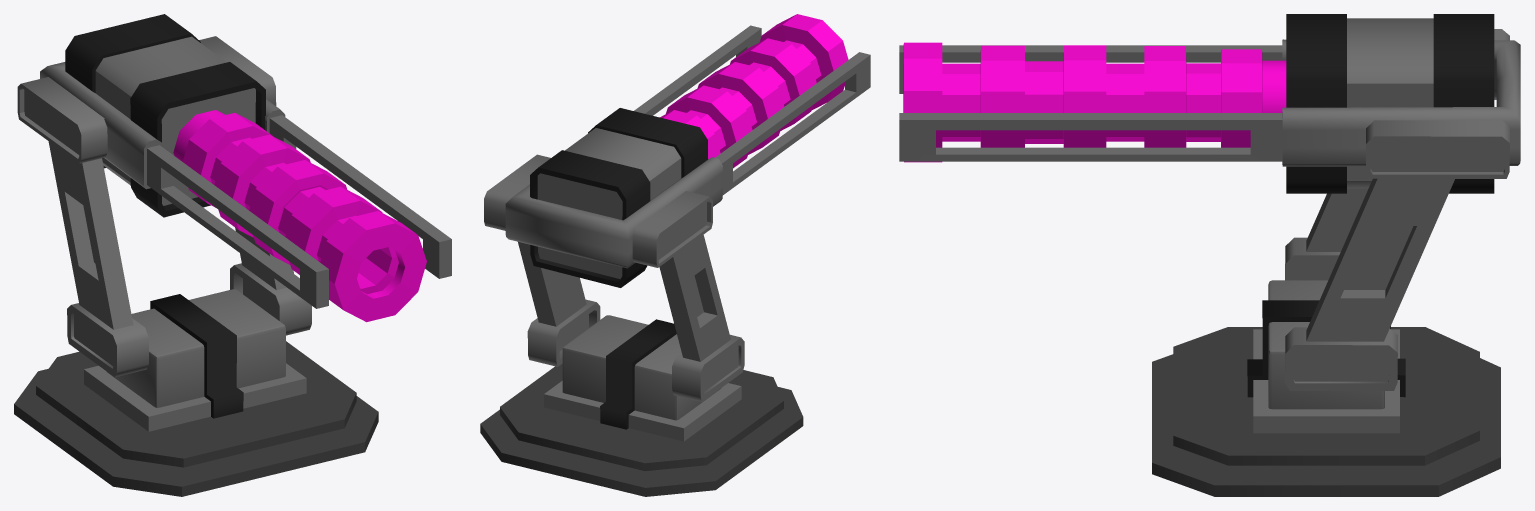
Rendered from Tsniper.fbx.
3 renders of one model, left to right at view 1: azimuth 30°, elevation 25°; view 2: azimuth 150°, elevation 25°; view 3: azimuth 270°, elevation 25°, orthographic. The views are drawn at different scales.
Visible parts, largest first — view 1: Object002, BASE; view 2: Object002, BASE; view 3: Object002, BASE.
Part boxes in pixels (box(x1,y1,x2,y2)): Object002: box(17, 14, 451, 431); BASE: box(14, 341, 378, 496); Object002: box(484, 14, 870, 441); BASE: box(480, 363, 803, 496); Object002: box(899, 14, 1520, 433); BASE: box(1152, 327, 1500, 496).
Size of the model in its own units: 34.17 by 41.75 by 61.3.
